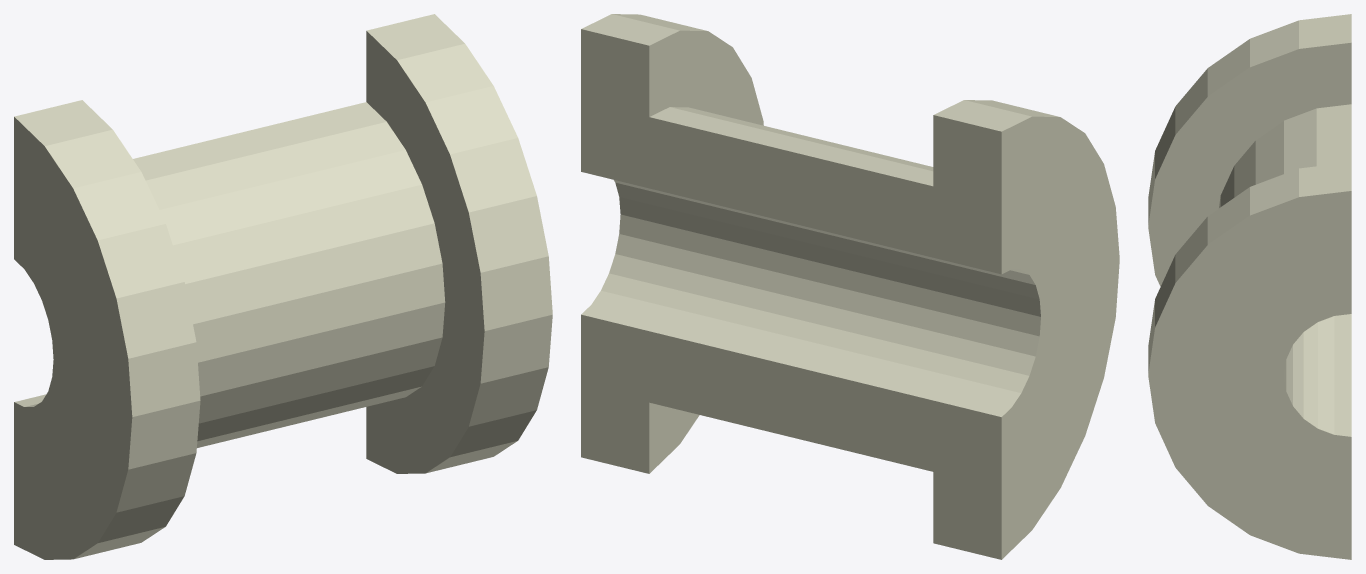
The model's file is section_093.obj.
3 renders of one model, left to right at view 1: azimuth 30°, elevation 25°; view 2: azimuth 150°, elevation 25°; view 3: azimuth 270°, elevation 25°, orthographic. The views are drawn at different scales.
Size of the model in its own units: 6.16 by 6 by 3.
